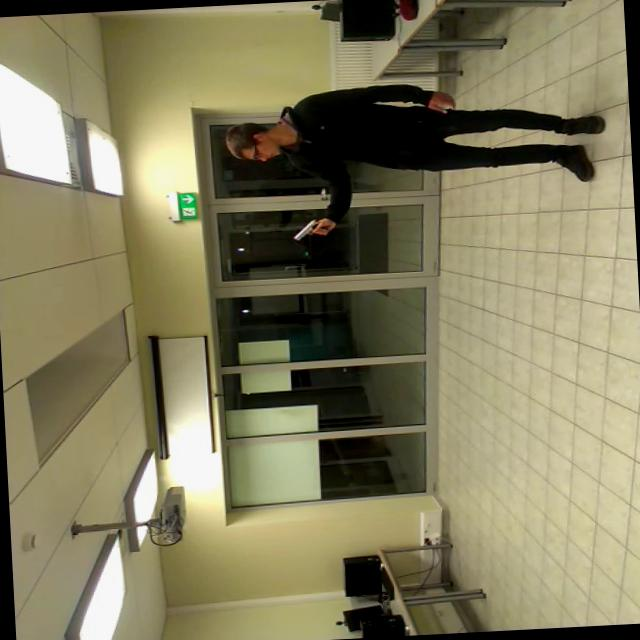handgun: (286, 212, 344, 247)
